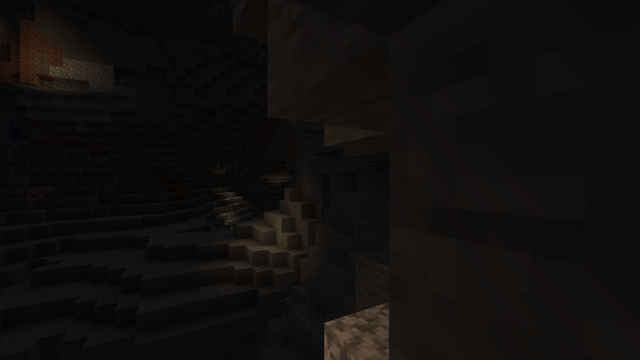cochons: (25, 187, 43, 197)
